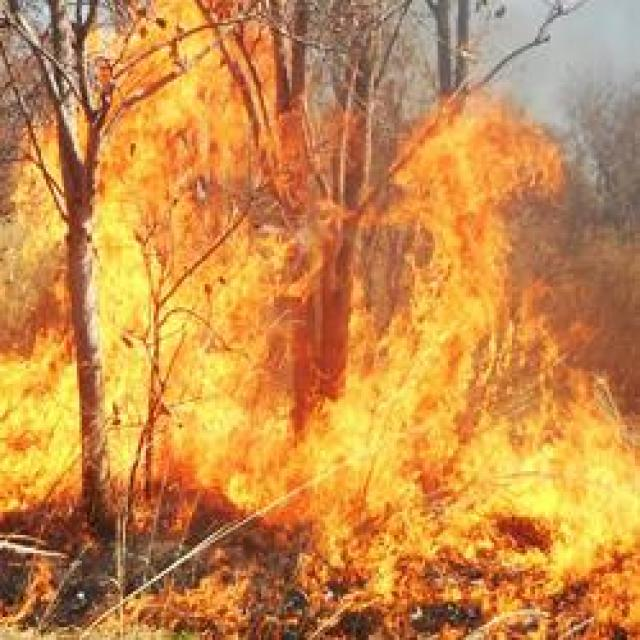fire: (101, 0, 625, 633), (0, 120, 87, 520)
